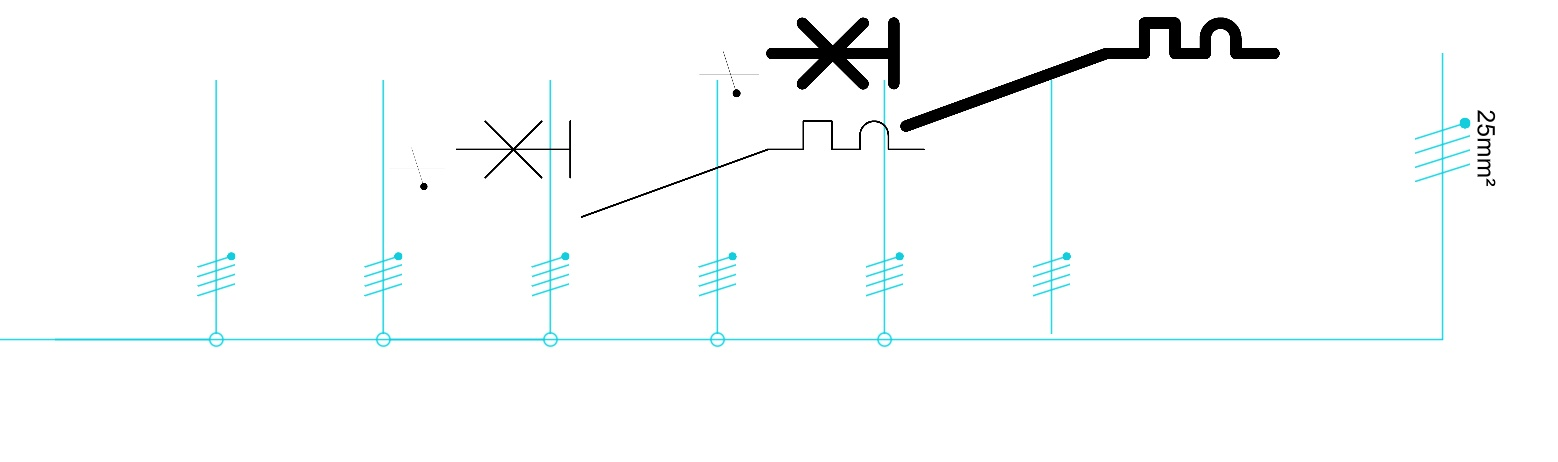interruptor_termomagnetico: (758, 10, 1287, 139), (444, 109, 936, 229)
